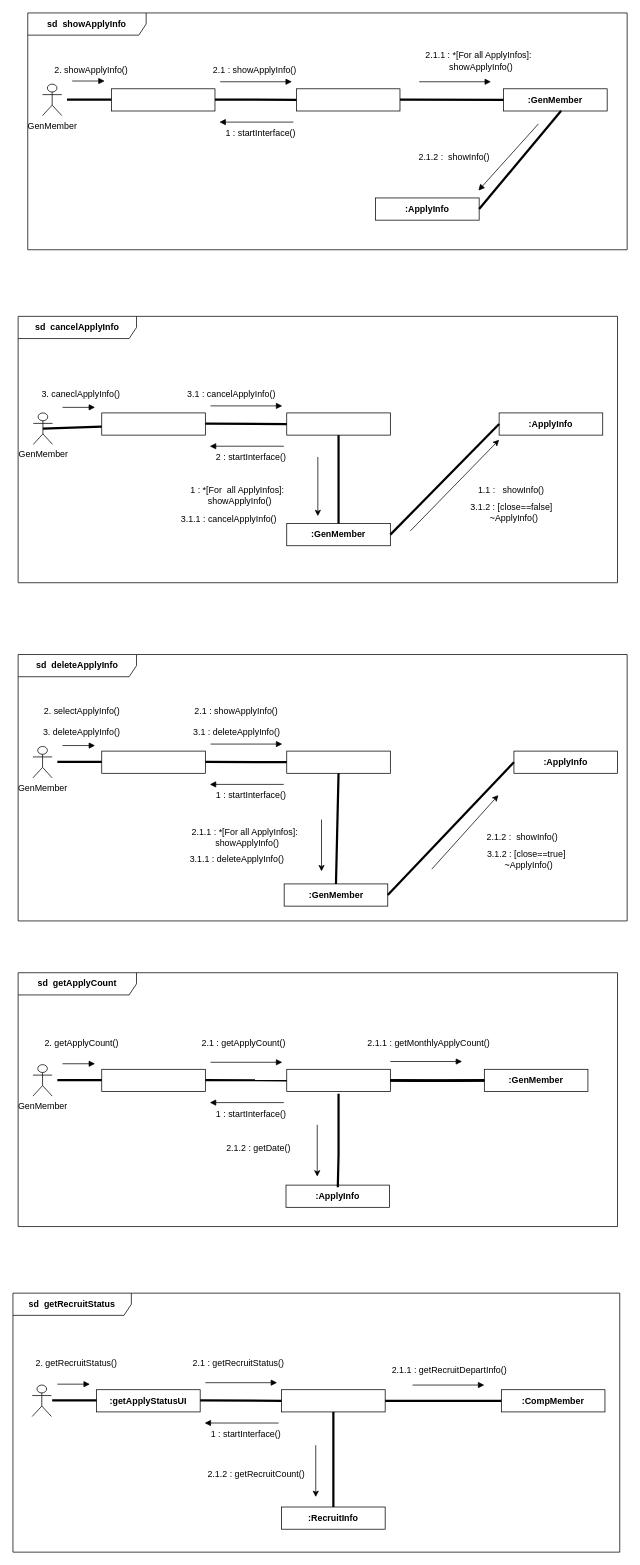
The diagram is 640 pixels wide and 1565 high, and some of its shapes have lost their labels. Here are the shapes that lost their labels. From the top down, the centre of each, then its label:
(163,99): : showApplyInfo UI
(348,99): : showApplyInfo
(153,423): :cancelApplyInfoUI
(338,423): :cancelApplyInfo
(153,761): :deleteApplyInfoUI
(338,761): :deleteApplyInfo
(153,1080): : getApplyCount UI
(338,1080): : getApplyCount
(41,1400): CompMember
(333,1400): : getApplyStatus
